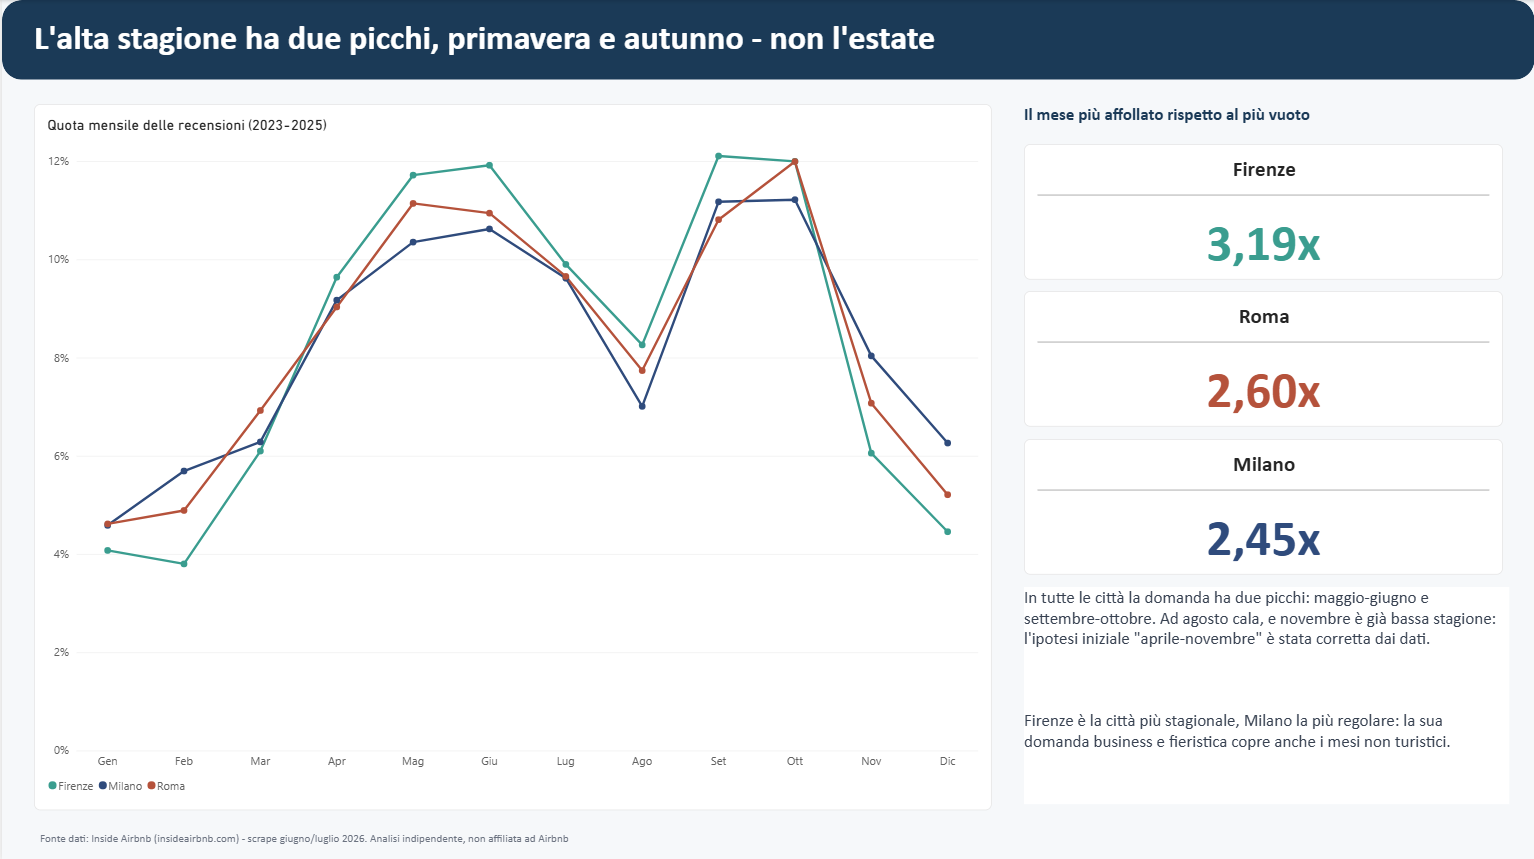

The dashboard page shown, as its layout file describes it:
{"tool":"powerbi","page":{"name":"Stagionalità","canvas":[1920,1080],"ordinal":3},"visuals":[{"type":"shape","box":[0,0,1920,100],"z":0},{"type":"textbox","box":[40,20,1840,60],"z":1000},{"type":"textbox","box":[48,1040,1200,32],"z":2000},{"type":"card","title":"Firenze","fields":{"Values":["_Measures.Seasonality Ratio"]},"box":[1280,180,600,170],"z":3000},{"type":"card","title":"Roma","fields":{"Values":["_Measures.Seasonality Ratio"]},"box":[1280,365,600,170],"z":4000},{"type":"card","title":"Milano","fields":{"Values":["_Measures.Seasonality Ratio"]},"box":[1280,550,600,170],"z":5000},{"type":"textbox","box":[1280,130,600,45],"z":6000},{"type":"textbox","box":[1280,736,608,272],"z":7000},{"type":"lineChart","title":"Quota mensile delle recensioni (2023-2025)","fields":{"Category":["Calendar.Month Name"],"Series":["listings_totale.city"],"Y":["_Measures.Review Share %"]},"box":[40,130,1200,885],"z":8000}]}

Visuals, with their boxes in screenshot pixels (x1, y1, x2, y2), scaled from the page's 1920x1080 canvas onto the 1534x859 screenshot:
shape: (0, 0, 1533, 80)
textbox: (32, 16, 1502, 64)
textbox: (38, 827, 997, 853)
"Firenze" card: (1023, 143, 1502, 278)
"Roma" card: (1023, 290, 1502, 426)
"Milano" card: (1023, 437, 1502, 573)
textbox: (1023, 103, 1502, 139)
textbox: (1023, 585, 1508, 802)
"Quota mensile delle recensioni (2023-2025)" lineChart: (32, 103, 991, 807)
